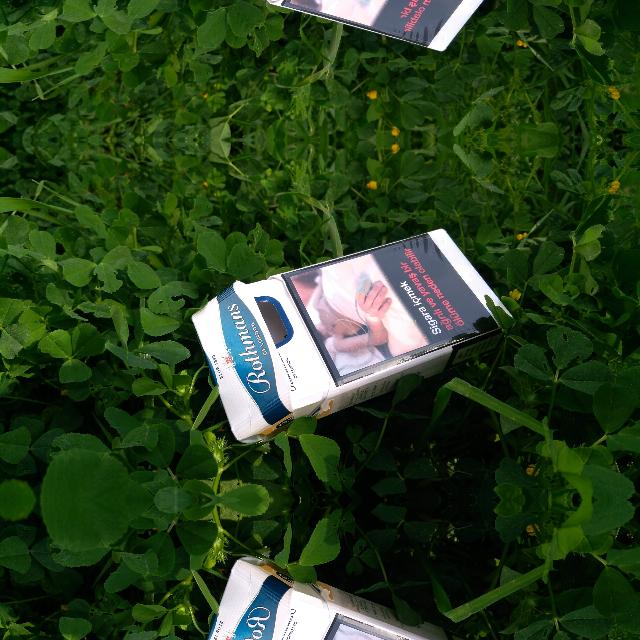Paper: (188, 221, 528, 459), (188, 541, 528, 640), (188, 0, 528, 59)
